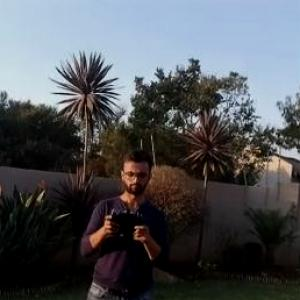follow: (69, 136, 173, 299)
